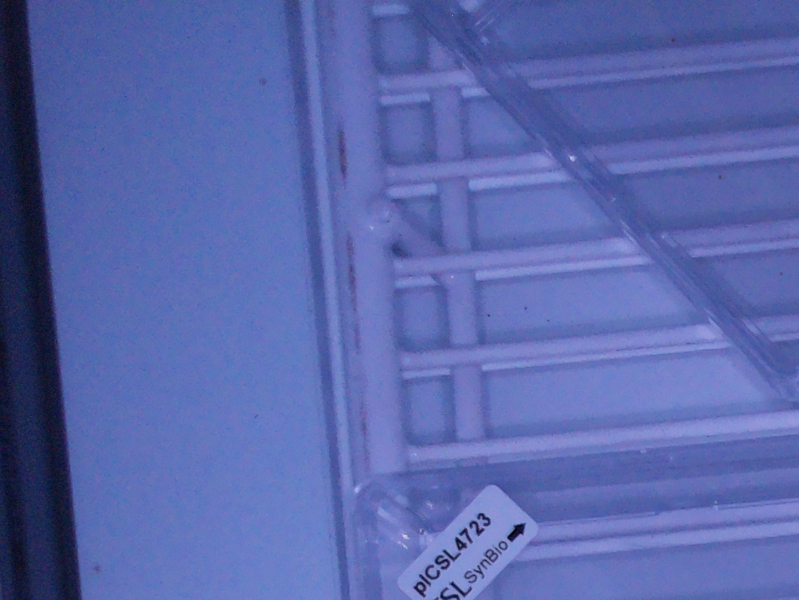plate: (400, 1, 799, 397), (343, 434, 799, 600)
